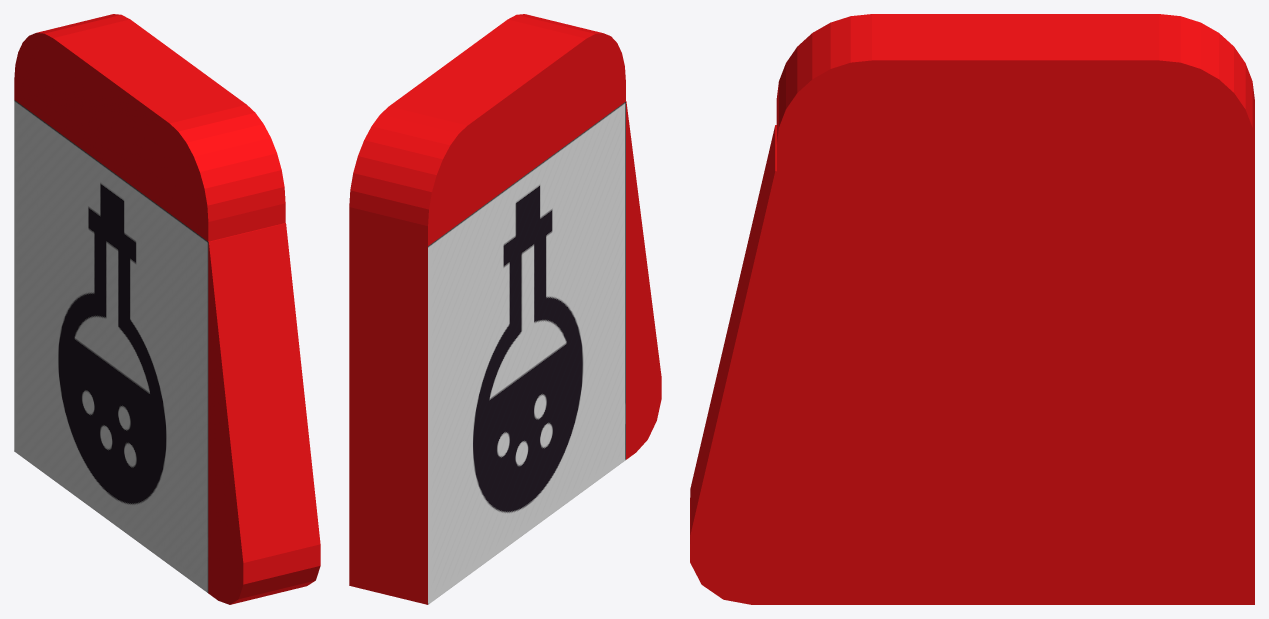
The model's file is Powerup_health.fbx.
3 renders of one model, left to right at view 1: azimuth 30°, elevation 25°; view 2: azimuth 150°, elevation 25°; view 3: azimuth 270°, elevation 25°, orthographic. The views are drawn at different scales.
Parts seen in each view (by area): view 1: Cube.004; view 2: Cube.004; view 3: Cube.004.
Part boxes in pixels (x1,y1,x2,y2): Cube.004: (14,14,320,604); Cube.004: (349,14,661,604); Cube.004: (690,14,1254,604).
Bounding box in the file's own units: 45.96 × 251 × 236.
2 materials, 1 textured.
